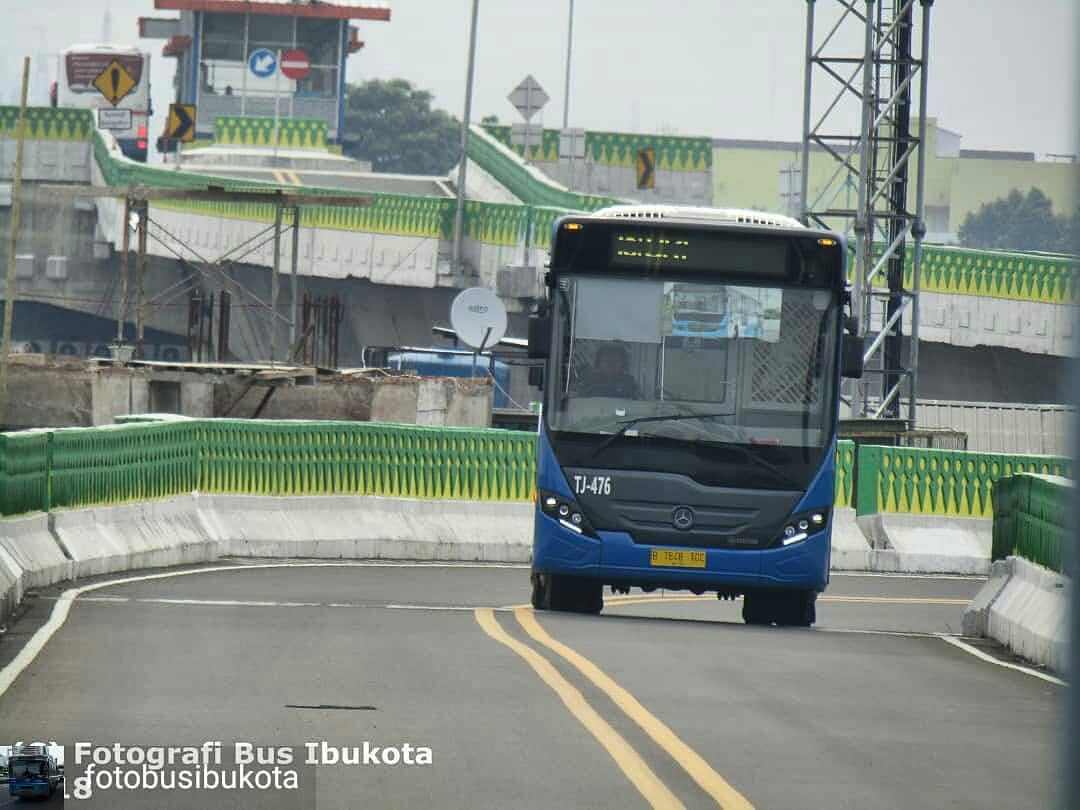plate: (646, 548, 709, 569)
